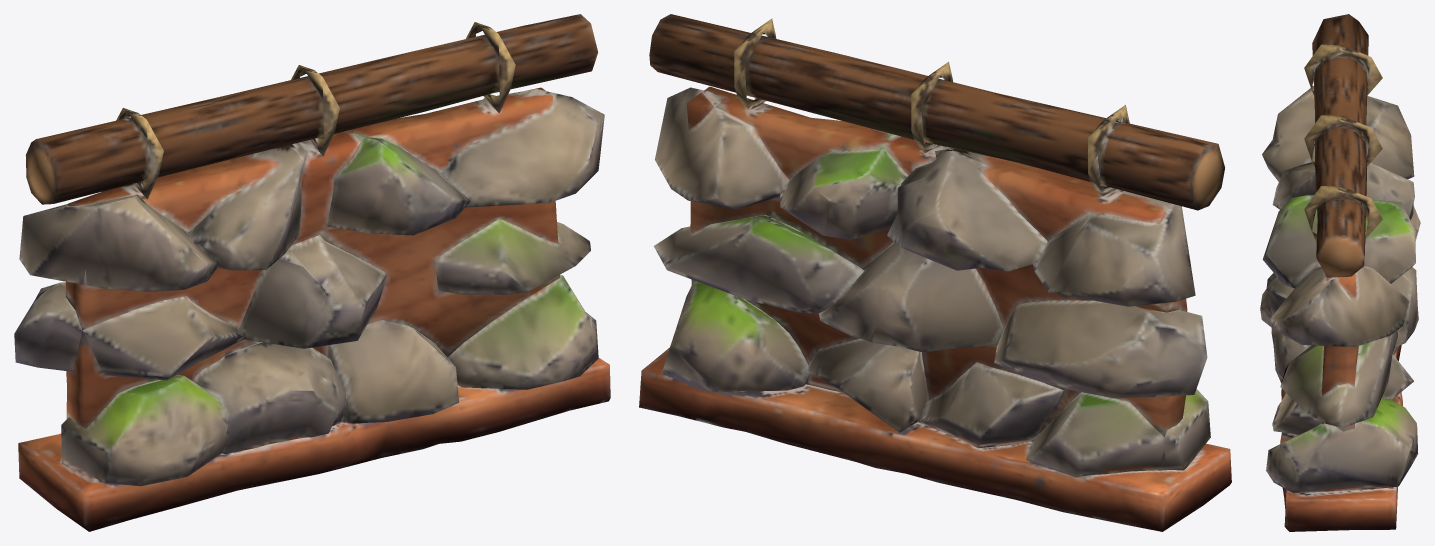
File: reinforced_wall.glb
The picture shows the model from 3 angles, left to right: view 1: azimuth 30°, elevation 25°; view 2: azimuth 150°, elevation 25°; view 3: azimuth 270°, elevation 25°; orthographic projection. The views are drawn at different scales.
Visible parts, largest first — view 1: reinforced_wall; view 2: reinforced_wall; view 3: reinforced_wall.
Boxes of the visible parts, box(x1,y1,x2,y2) form: reinforced_wall: box(14, 14, 610, 531); reinforced_wall: box(639, 14, 1231, 531); reinforced_wall: box(1260, 14, 1420, 531).
Bounding box in the file's own units: 1.92 × 1.24 × 0.5757.
1 material, 1 textured.
